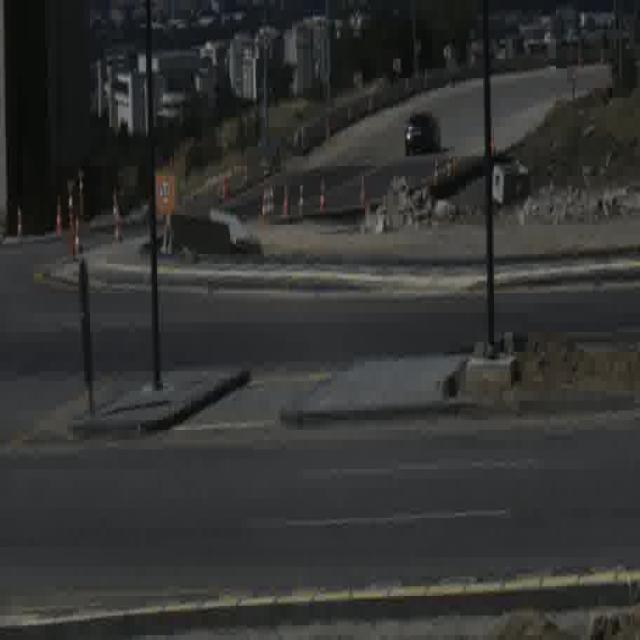Car: (403, 111, 443, 156)
